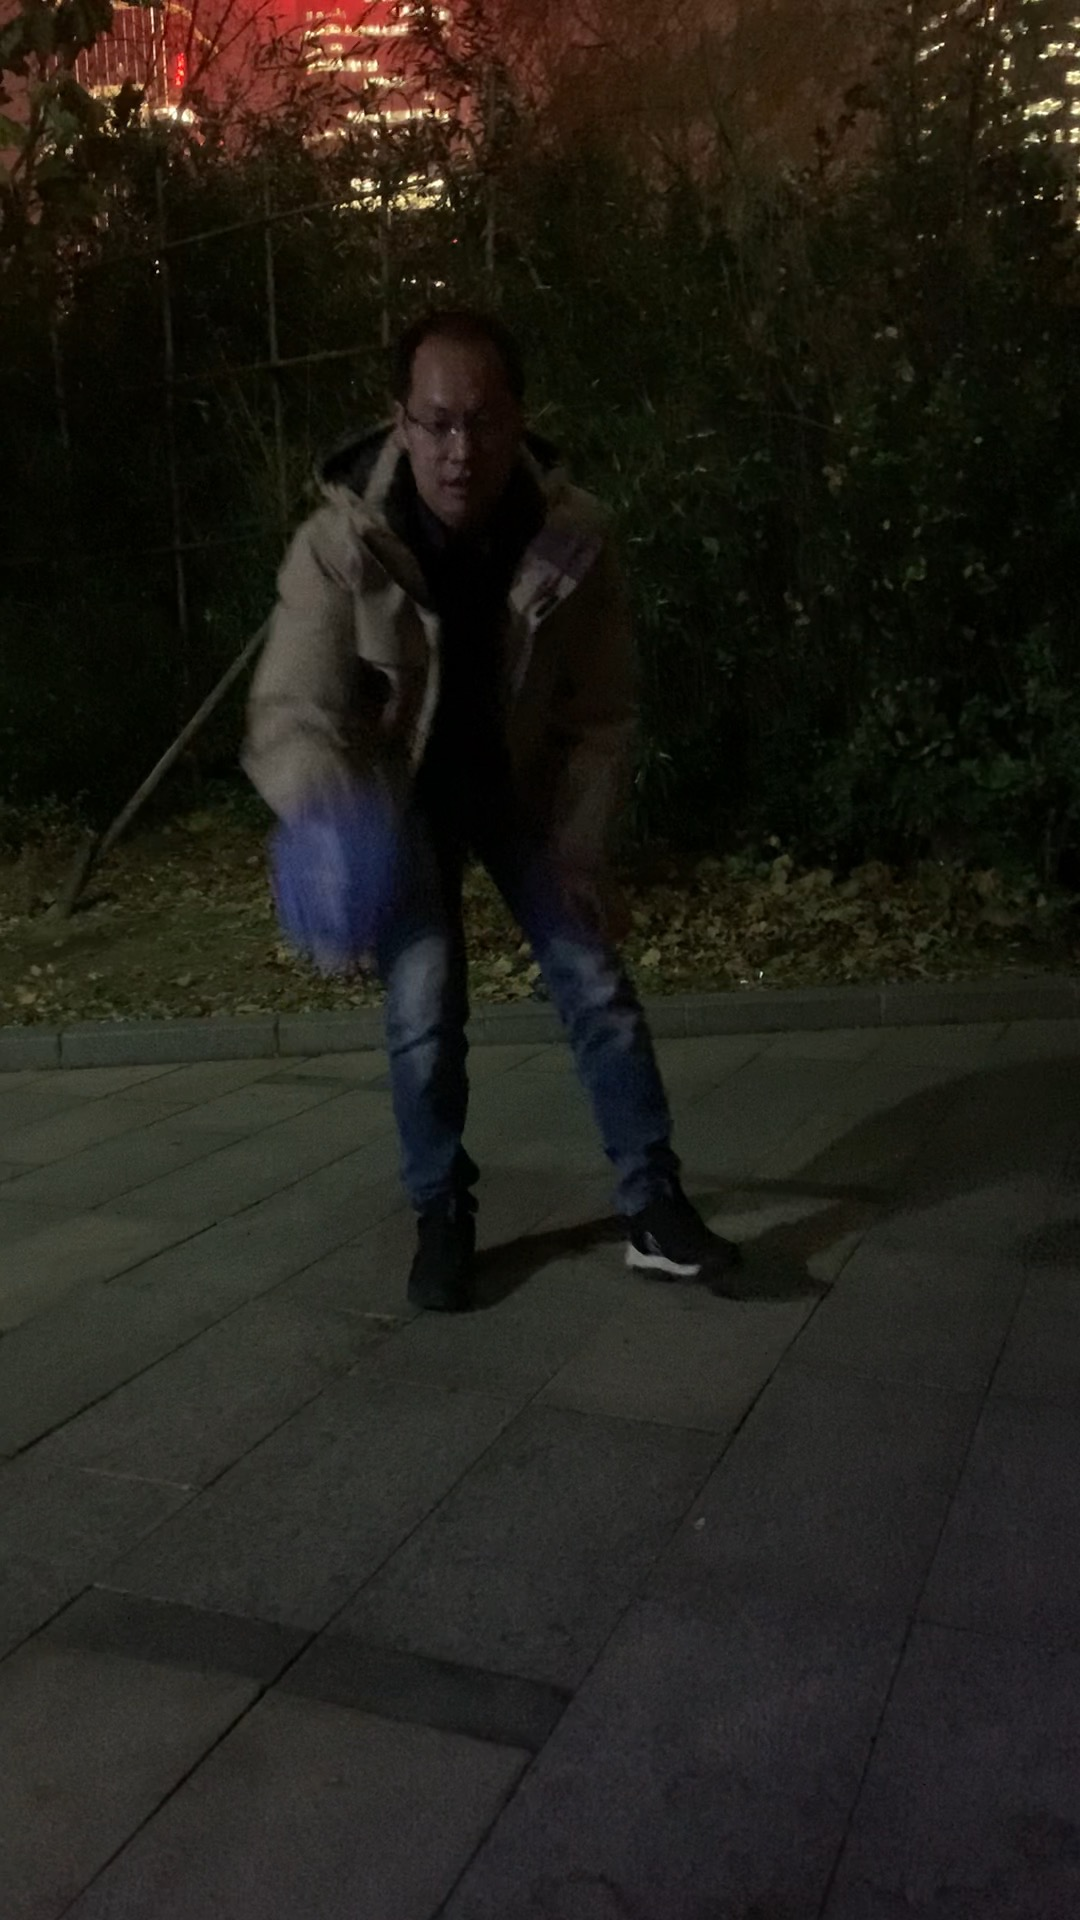ball: (276, 796, 433, 971)
